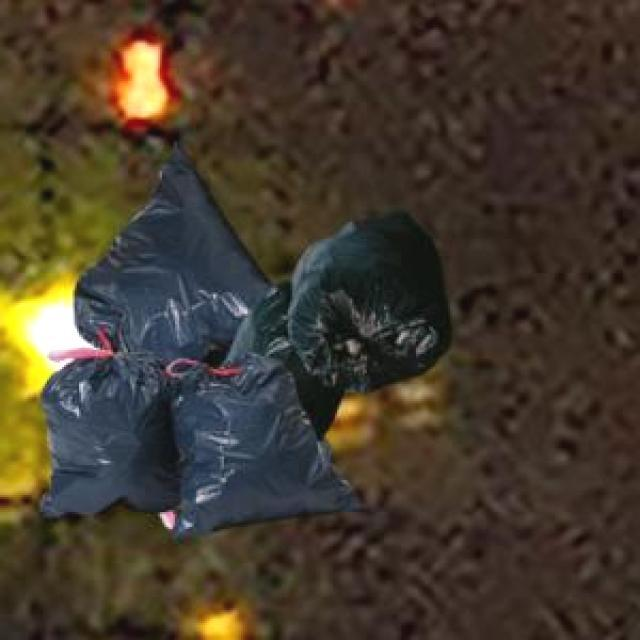Trashbag: (76, 156, 269, 362), (173, 348, 348, 542), (287, 207, 458, 394), (39, 357, 186, 530)
